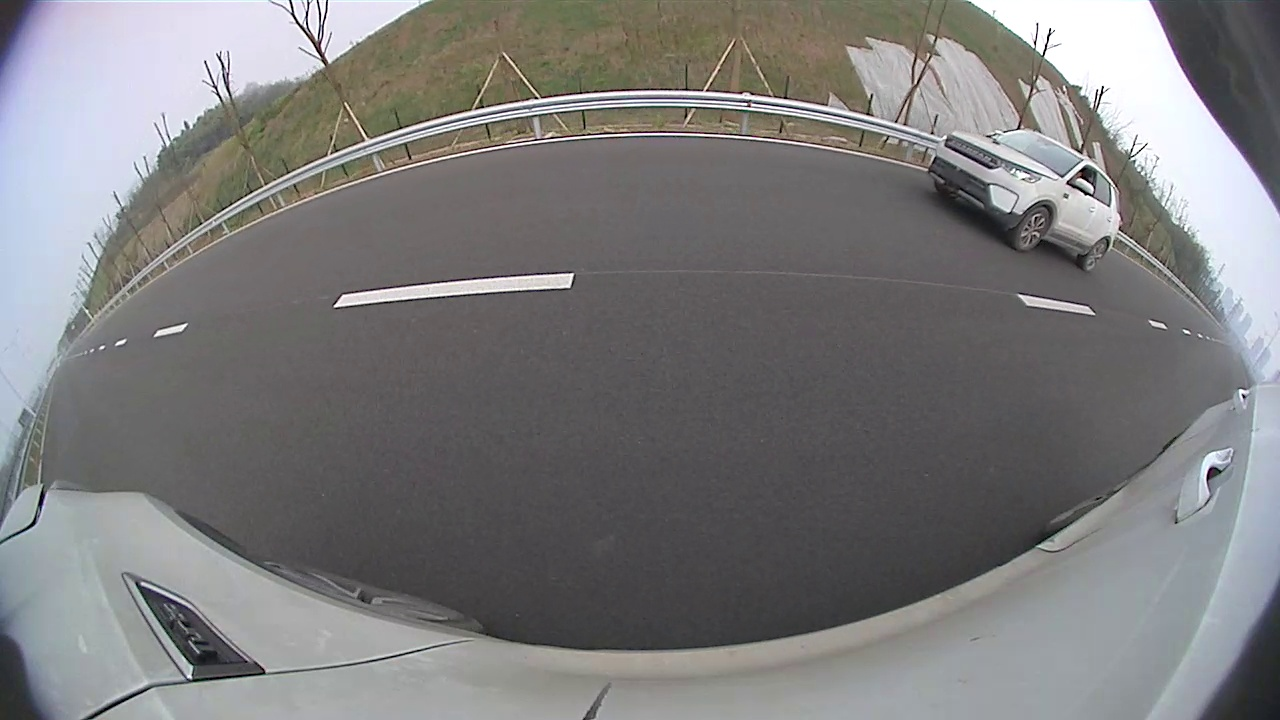car: (643, 130, 757, 211)
front: (643, 175, 657, 199)
rear: (661, 174, 679, 209)
